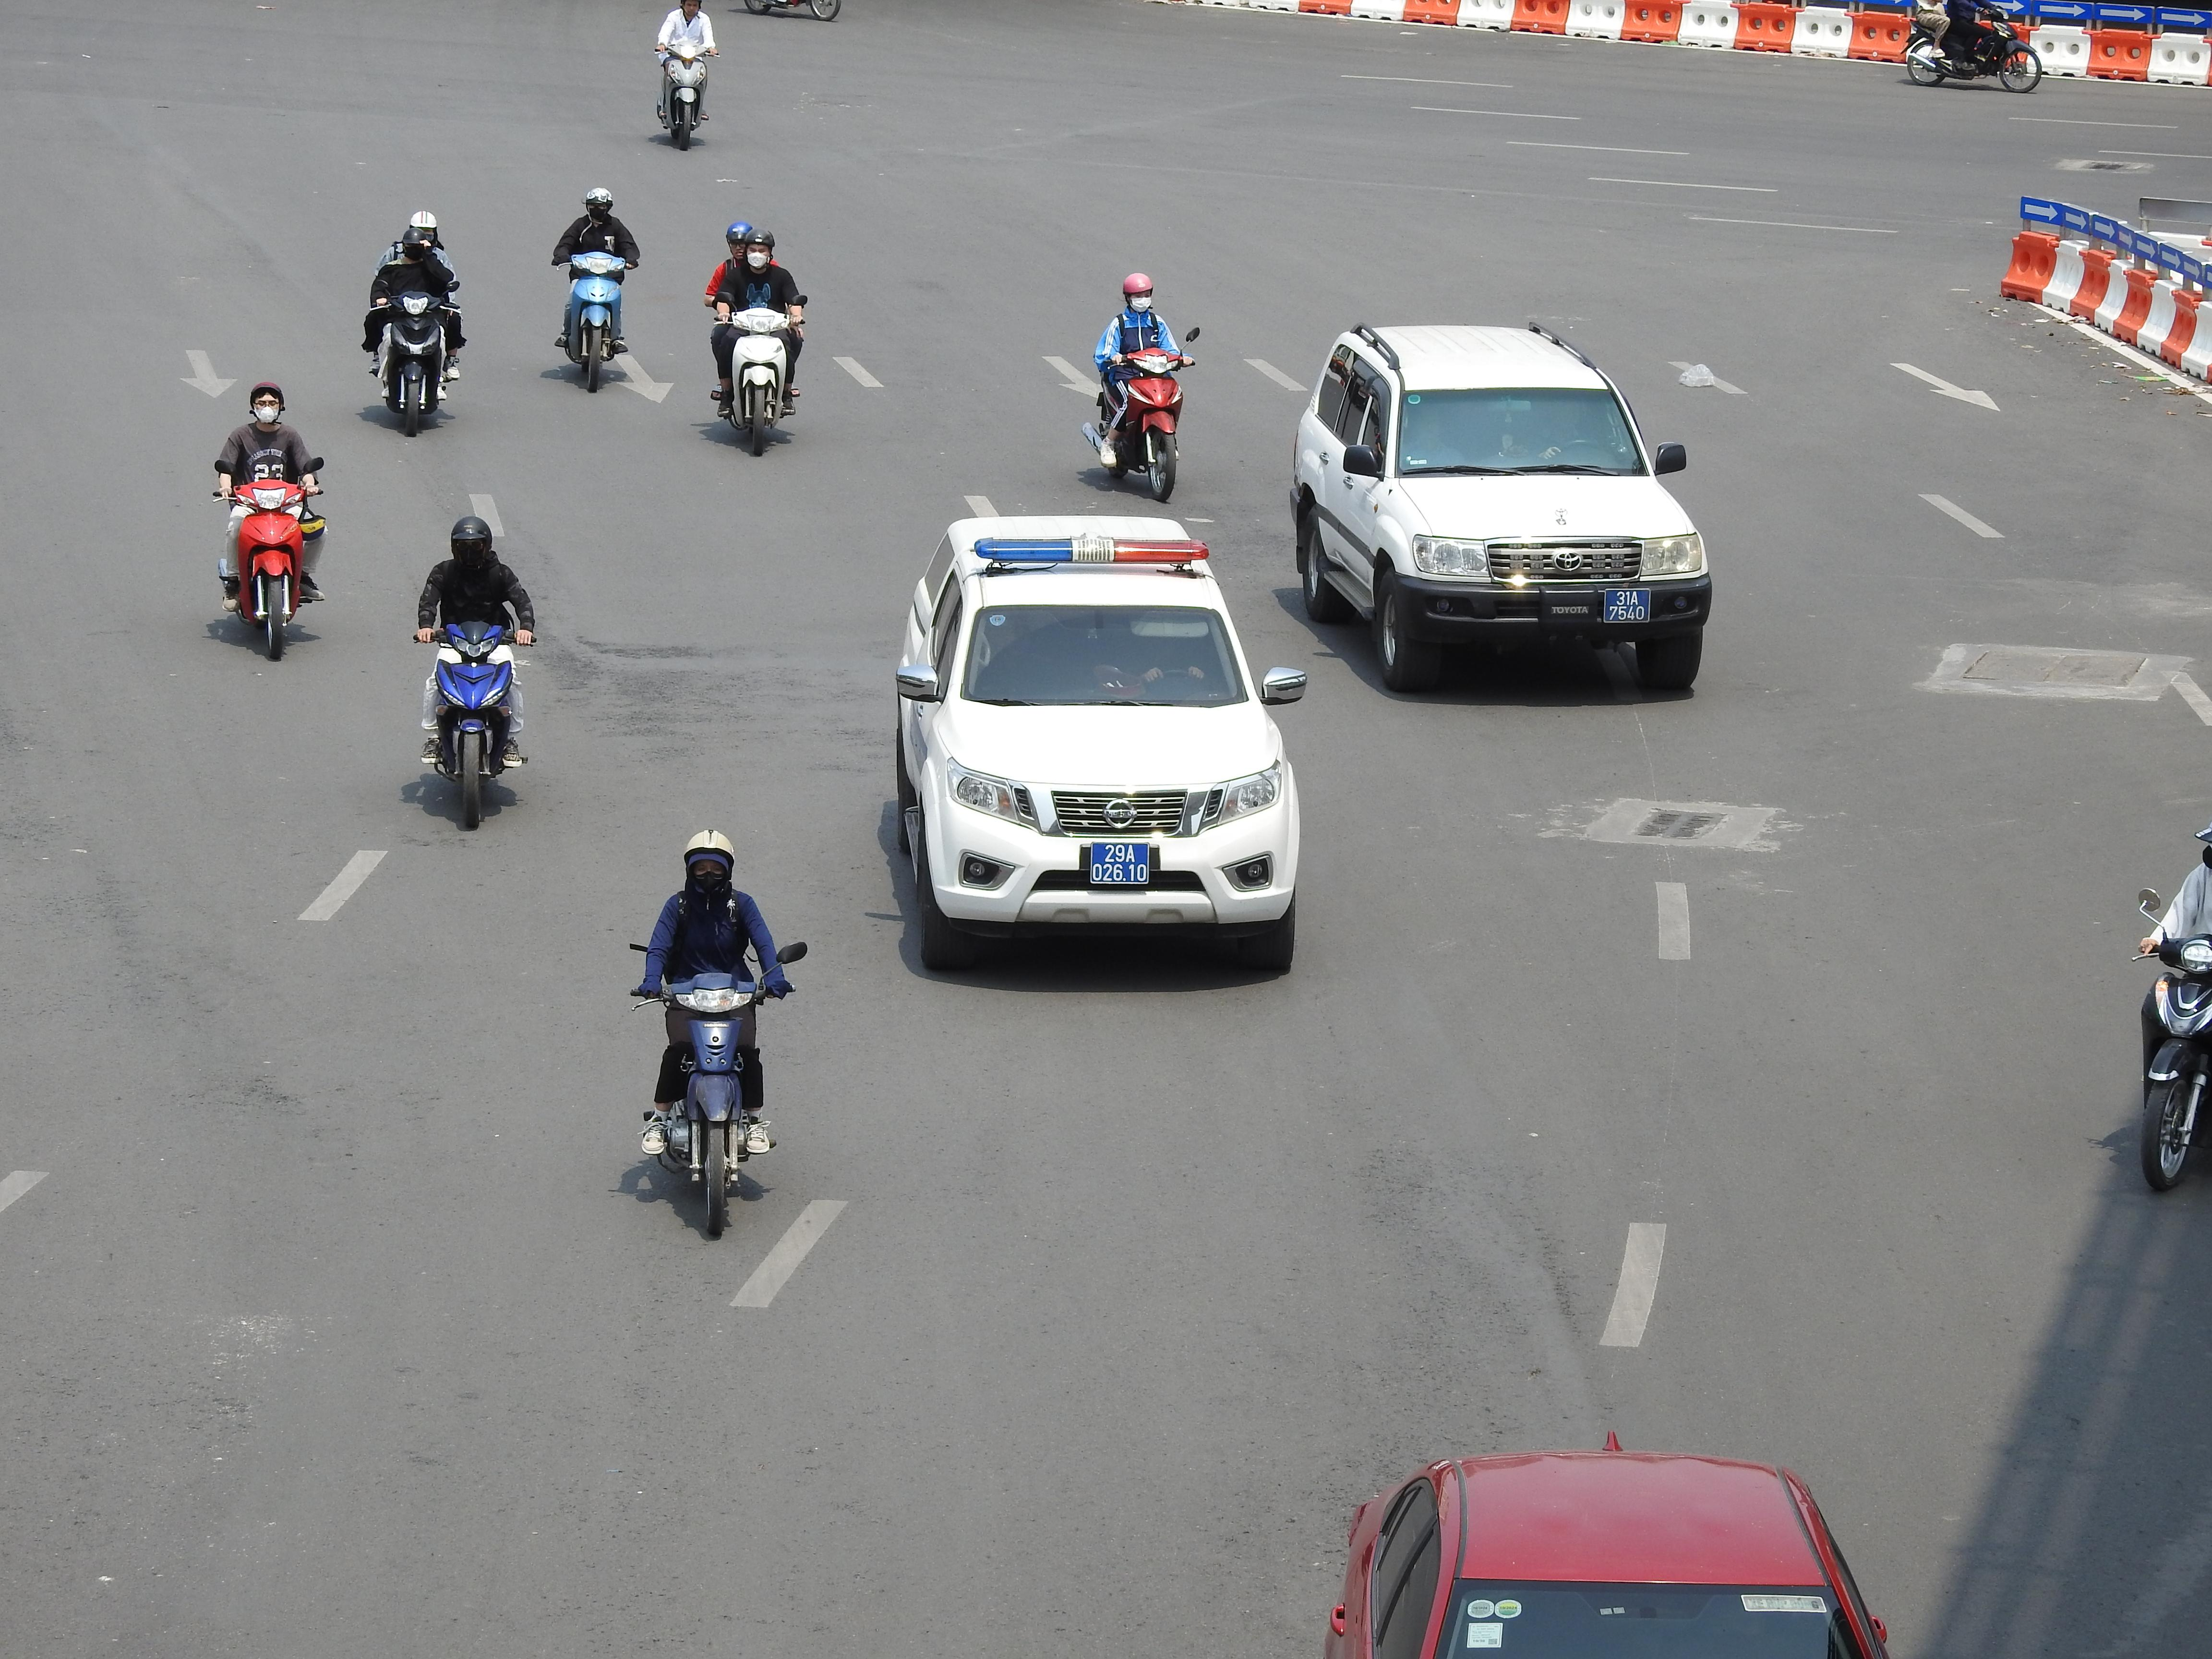BSV: (1092, 840, 1151, 885), (1602, 589, 1649, 622)
car: (885, 512, 1308, 976), (1285, 321, 1712, 699)
motorbike: (629, 828, 801, 1241), (416, 511, 535, 833), (214, 382, 327, 660), (2134, 812, 2212, 1195), (1085, 272, 1197, 504), (707, 221, 806, 457), (364, 211, 465, 439), (554, 186, 637, 392), (1904, 0, 2041, 92), (653, 0, 716, 152)
